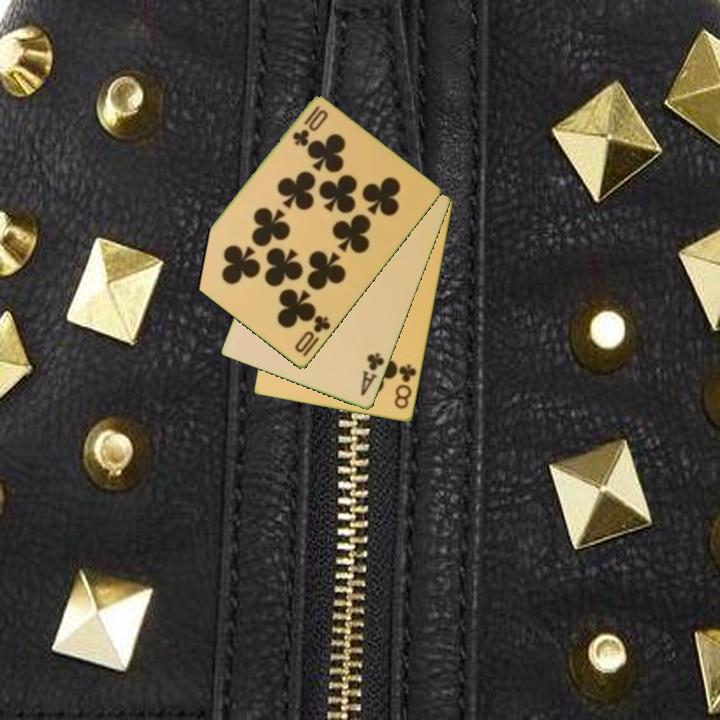10c: (289, 103, 331, 149), (291, 312, 334, 356)
8c: (391, 361, 420, 412)
Ac: (357, 349, 388, 399)
